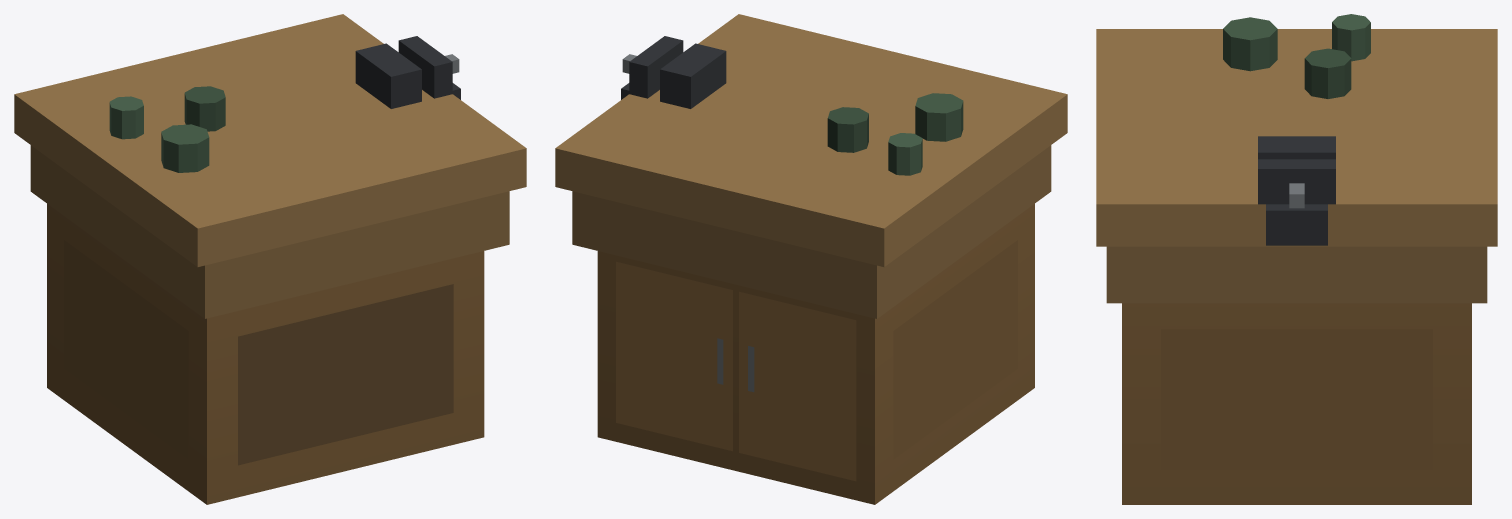
The model's file is table.workbench.pine.glb.
3 renders of one model, left to right at view 1: azimuth 30°, elevation 25°; view 2: azimuth 150°, elevation 25°; view 3: azimuth 270°, elevation 25°, orthographic. The views are drawn at different scales.
Parts seen in each view (by area): view 1: table_workbench_pine; view 2: table_workbench_pine; view 3: table_workbench_pine.
Part boxes in pixels (x1,y1,x2,y2): table_workbench_pine: [14, 14, 526, 504]; table_workbench_pine: [555, 14, 1067, 504]; table_workbench_pine: [1096, 14, 1497, 504].
Size of what is drawn, in the model's own units: 1.14 by 1 by 1.03.
